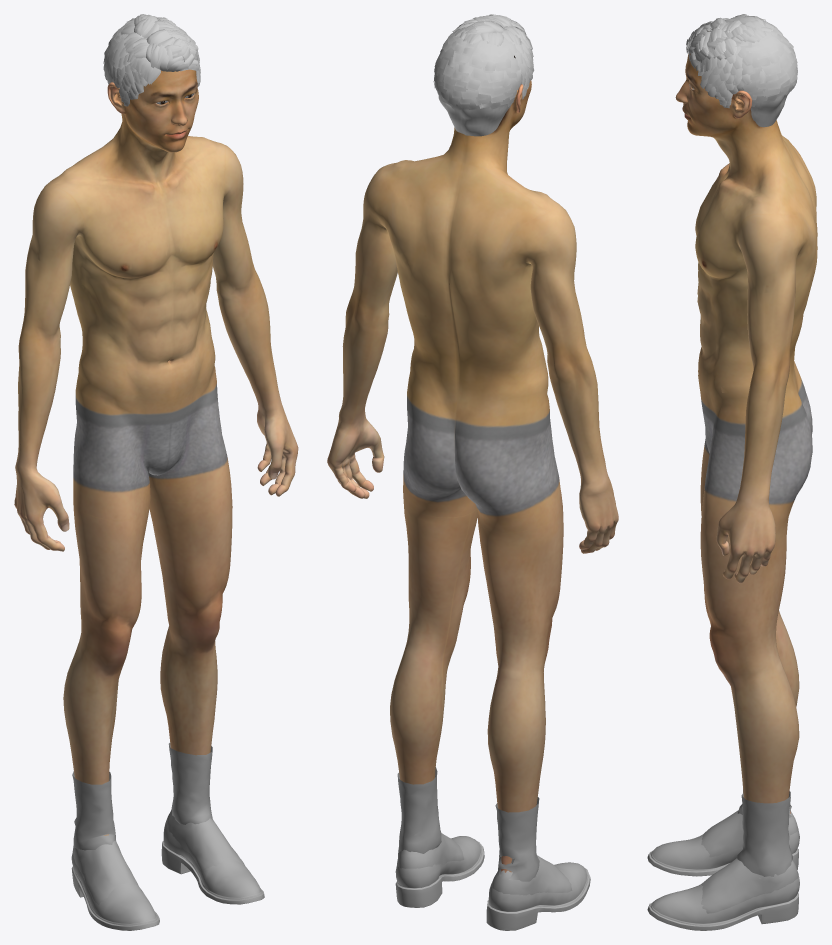
File: body2.fbx
The picture shows the model from 3 angles, left to right: view 1: azimuth 30°, elevation 25°; view 2: azimuth 150°, elevation 25°; view 3: azimuth 270°, elevation 25°; orthographic projection.
Parts seen in each view (by area): view 1: bodyShape_skin_Shape0, bodyShape_skin_Shape1, bodyShape_skin_Shape2, MV_Hair_Shape0, Pattern2D_4593, Pattern2D_4592, shoes_r_Shape4, shoes_l_Shape4, shoes_l_Shape1, shoes_r_Shape1, shoes_l_Shape0, shoes_r_Shape0; view 2: bodyShape_skin_Shape0, bodyShape_skin_Shape1, MV_Hair_Shape0, Pattern2D_4593, Pattern2D_4592, shoes_r_Shape1, shoes_l_Shape1, shoes_r_Shape4, shoes_r_Shape0, shoes_l_Shape0, shoes_l_Shape4, bodyShape_skin_Shape2; view 3: bodyShape_skin_Shape0, bodyShape_skin_Shape1, MV_Hair_Shape0, bodyShape_skin_Shape2, Pattern2D_4593, shoes_l_Shape4, shoes_l_Shape1, shoes_r_Shape1, shoes_l_Shape0, shoes_r_Shape4, shoes_r_Shape0.
Boxes of the visible parts, x1,y1,x2,y2 form: bodyShape_skin_Shape0: (14,144,298,835); bodyShape_skin_Shape1: (50,122,231,519); bodyShape_skin_Shape2: (107,69,198,173); MV_Hair_Shape0: (103,14,200,106); Pattern2D_4593: (168,742,212,824); Pattern2D_4592: (72,771,115,850); shoes_r_Shape4: (72,840,138,904); shoes_l_Shape4: (166,809,245,872); shoes_l_Shape1: (163,821,260,897); shoes_r_Shape1: (71,852,156,923); shoes_l_Shape0: (161,840,264,904); shoes_r_Shape0: (71,866,159,930); bodyShape_skin_Shape0: (327,165,618,872); bodyShape_skin_Shape1: (382,128,562,532); MV_Hair_Shape0: (433,14,534,136); Pattern2D_4593: (397,767,441,853); Pattern2D_4592: (495,797,539,881); shoes_r_Shape1: (488,862,587,911); shoes_l_Shape1: (395,836,480,888); shoes_r_Shape4: (491,855,572,895); shoes_r_Shape0: (486,868,590,930); shoes_l_Shape0: (395,841,484,907); shoes_l_Shape4: (397,832,464,868); bodyShape_skin_Shape2: (454,55,531,164); bodyShape_skin_Shape0: (700,214,811,813); bodyShape_skin_Shape1: (695,121,817,525); MV_Hair_Shape0: (686,14,797,127); bodyShape_skin_Shape2: (675,30,776,172); Pattern2D_4593: (737,791,792,876); shoes_l_Shape4: (701,858,798,913); shoes_l_Shape1: (652,875,799,923); shoes_r_Shape1: (652,830,799,869); shoes_l_Shape0: (647,893,798,930); shoes_r_Shape4: (701,810,798,857); shoes_r_Shape0: (647,848,798,876).
Size of the model in its own units: 6.39 by 19.37 by 3.42.
